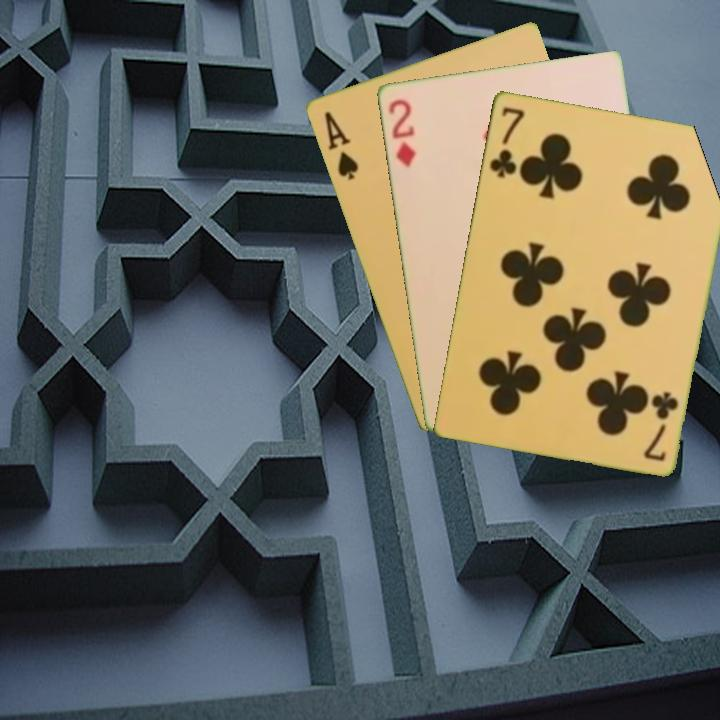2d: (384, 95, 419, 170)
7c: (485, 103, 527, 180), (640, 387, 681, 464)
As: (320, 107, 361, 183)
